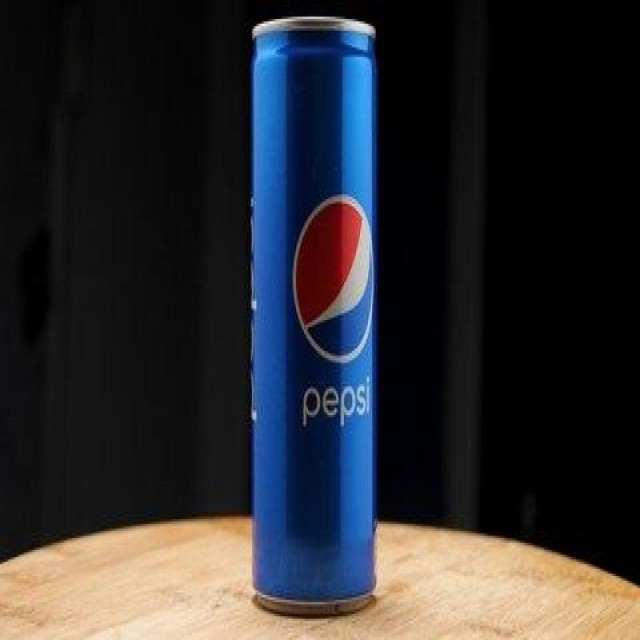pepsi: (289, 189, 380, 369)
